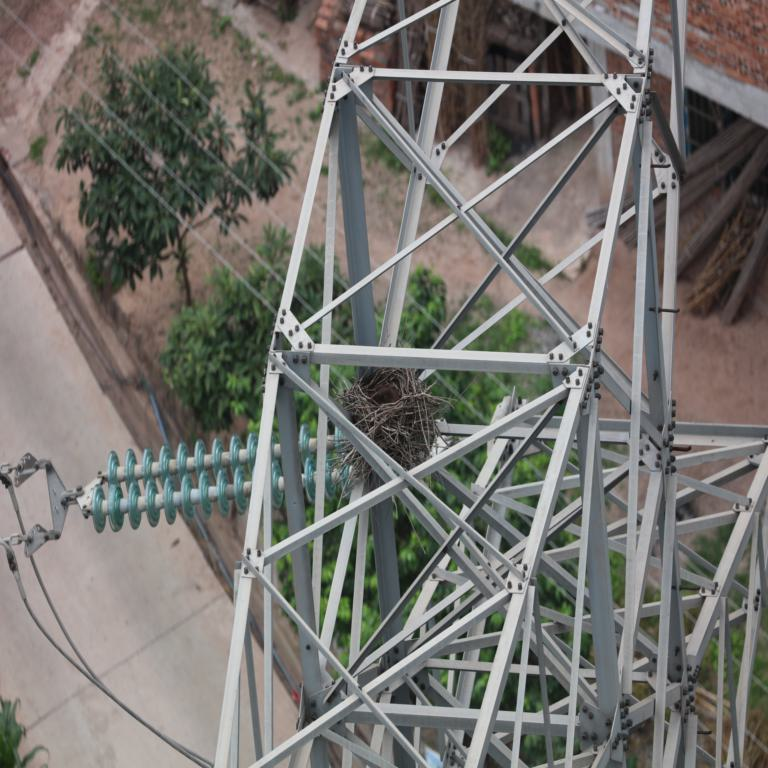nest: (343, 370, 440, 482)
